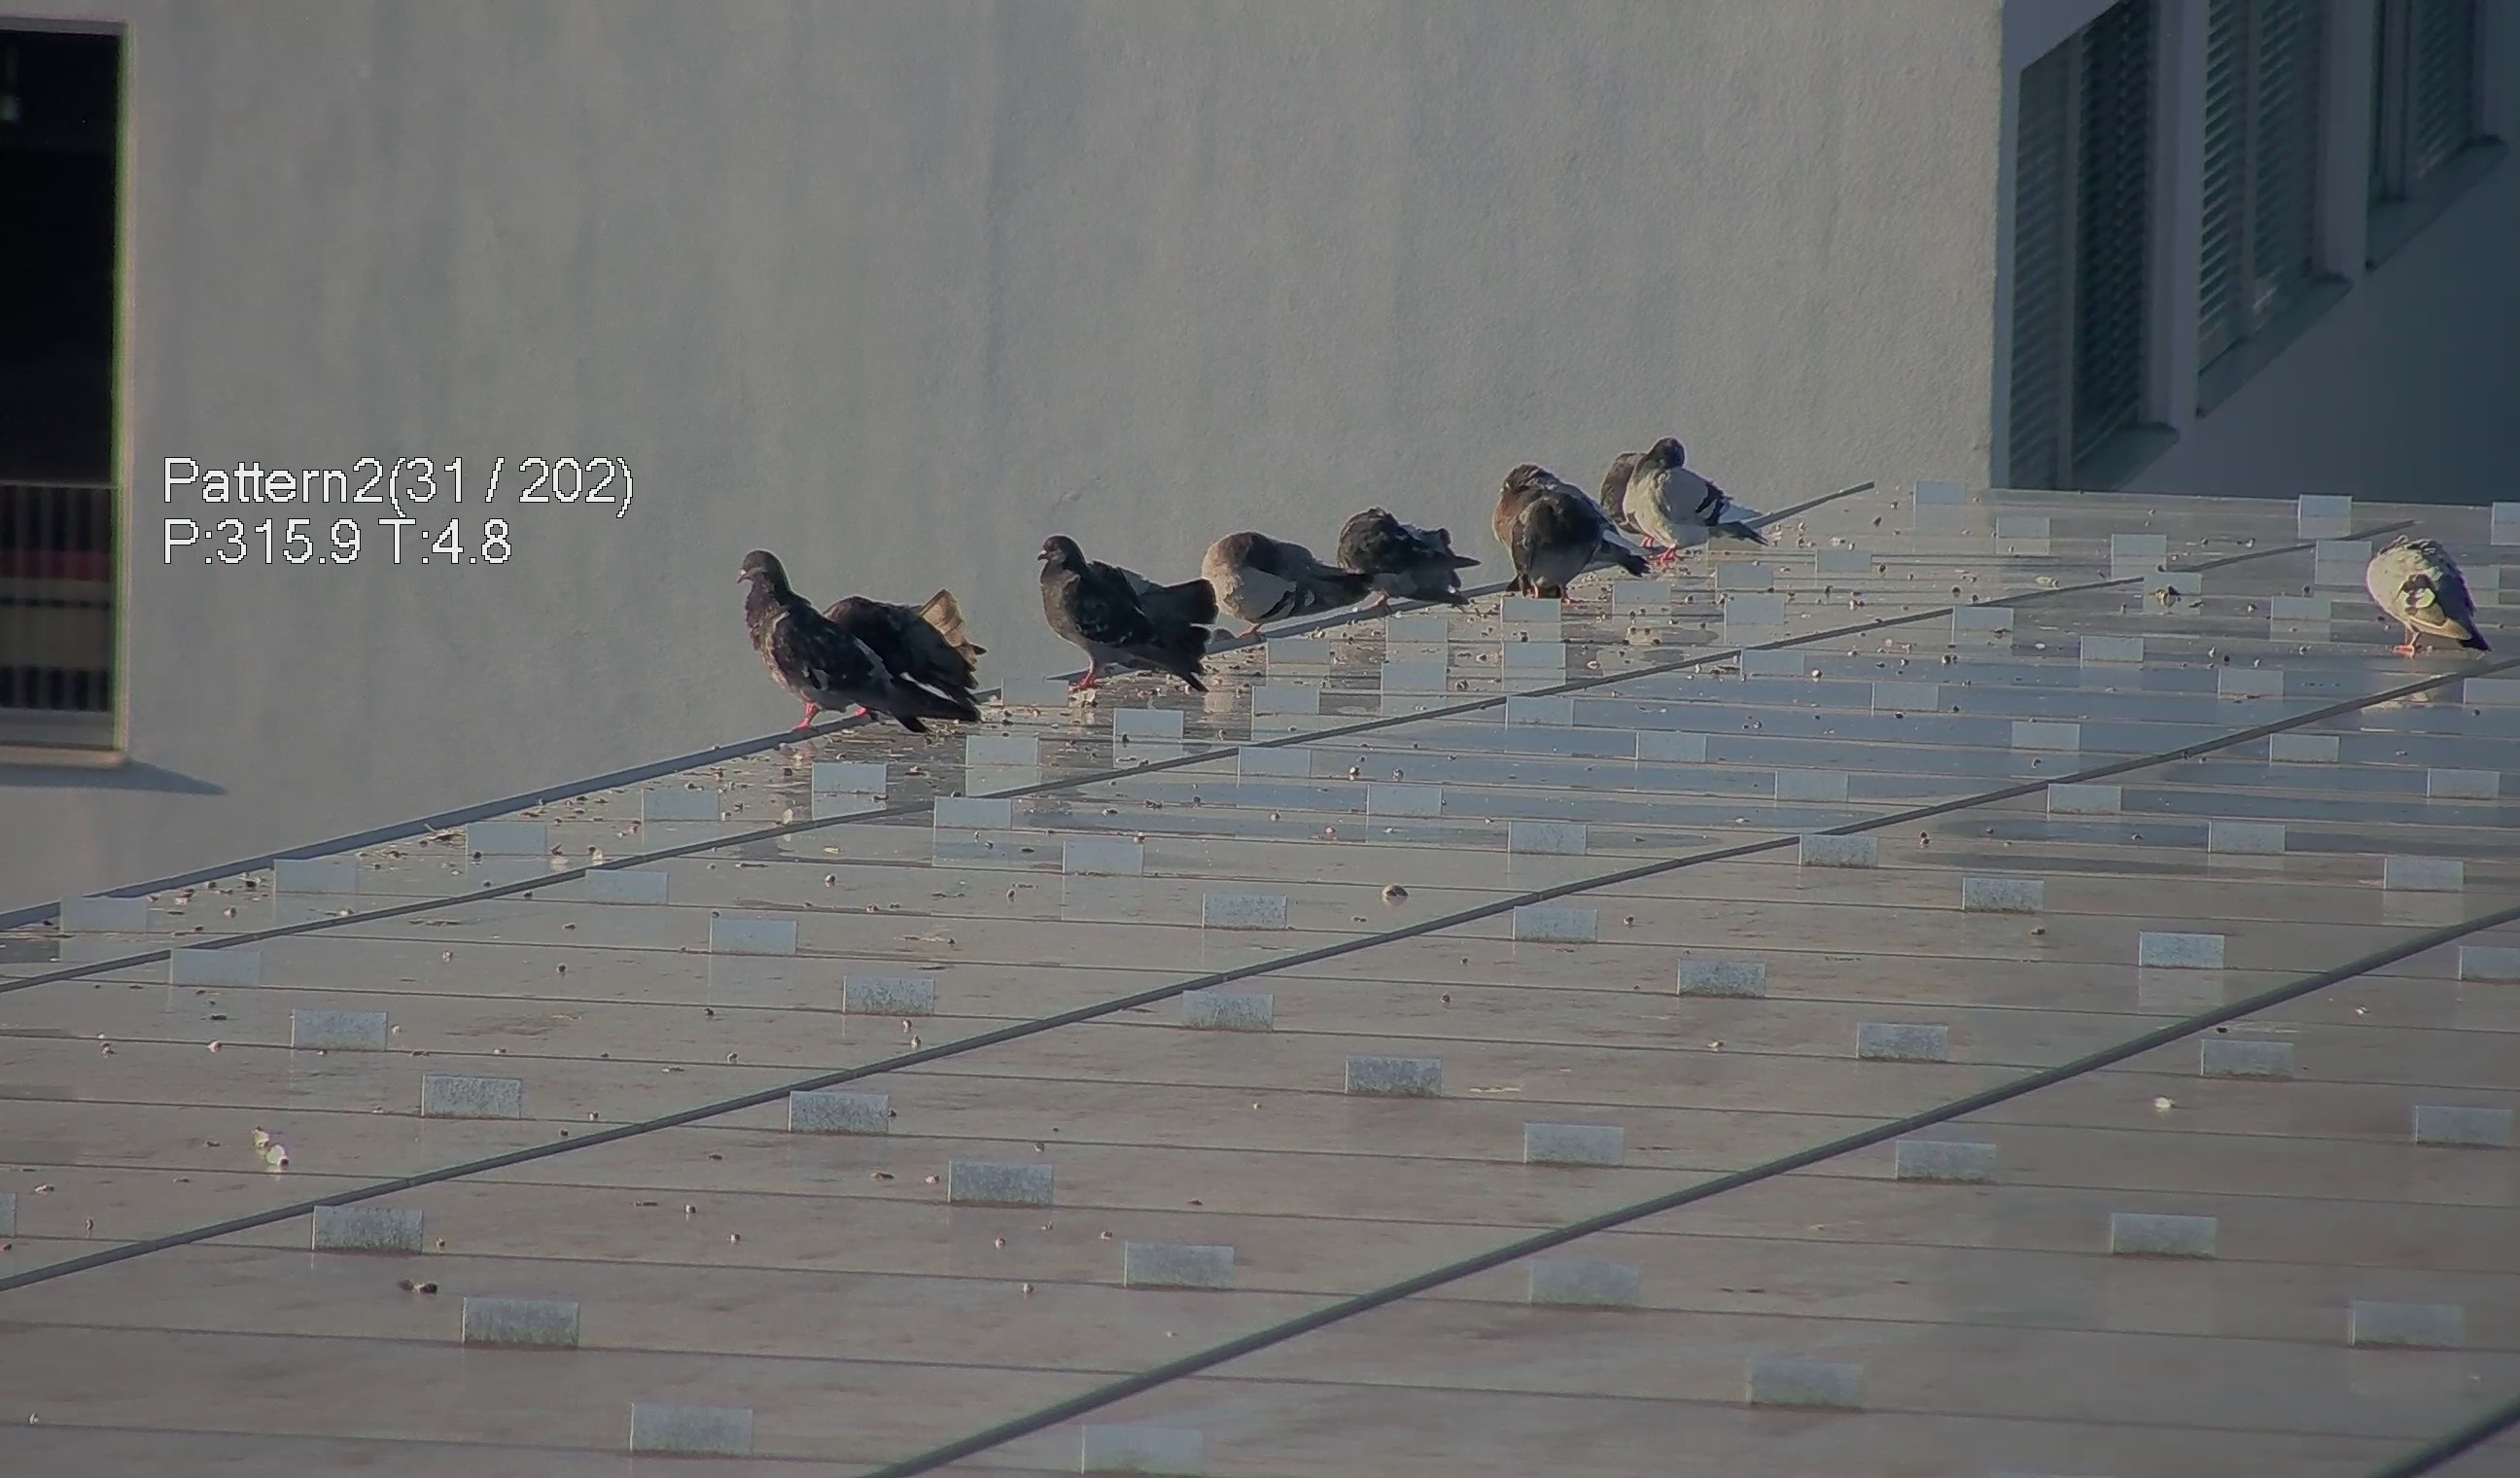Pigeon: (712, 547, 971, 739), (1022, 521, 1235, 693), (1600, 426, 1799, 568), (1484, 450, 1657, 596), (1199, 519, 1387, 633), (2369, 521, 2506, 669), (1322, 494, 1472, 598)
